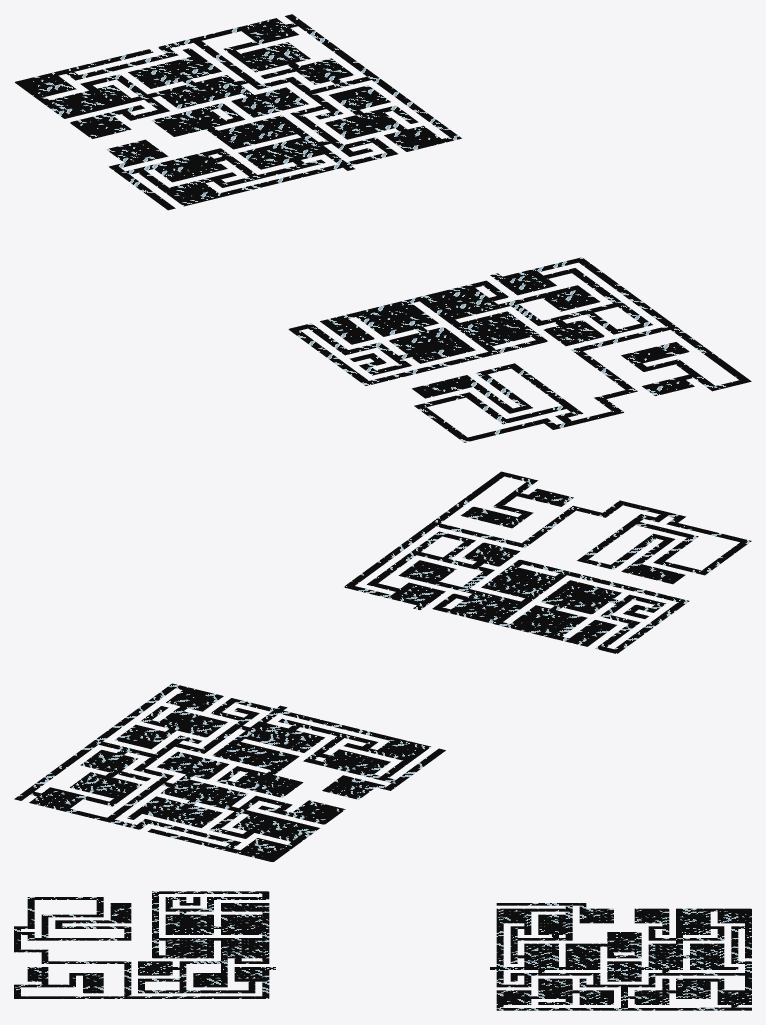
Rendered from ceiling.gltf.
3 renders of one model, top to bottom at view 1: azimuth 30°, elevation 25°; view 2: azimuth 150°, elevation 25°; view 3: azimuth 270°, elevation 25°, orthographic. The views are drawn at different scales.
Parts seen in each view (by area): view 1: ceiling; view 2: ceiling; view 3: ceiling.
Part boxes in pixels (x1,y1,x2,y2): ceiling: [14, 14, 751, 442]; ceiling: [14, 471, 751, 862]; ceiling: [14, 891, 751, 1010].
Bounding box in the file's own units: 164 × 0.0156 × 428.
